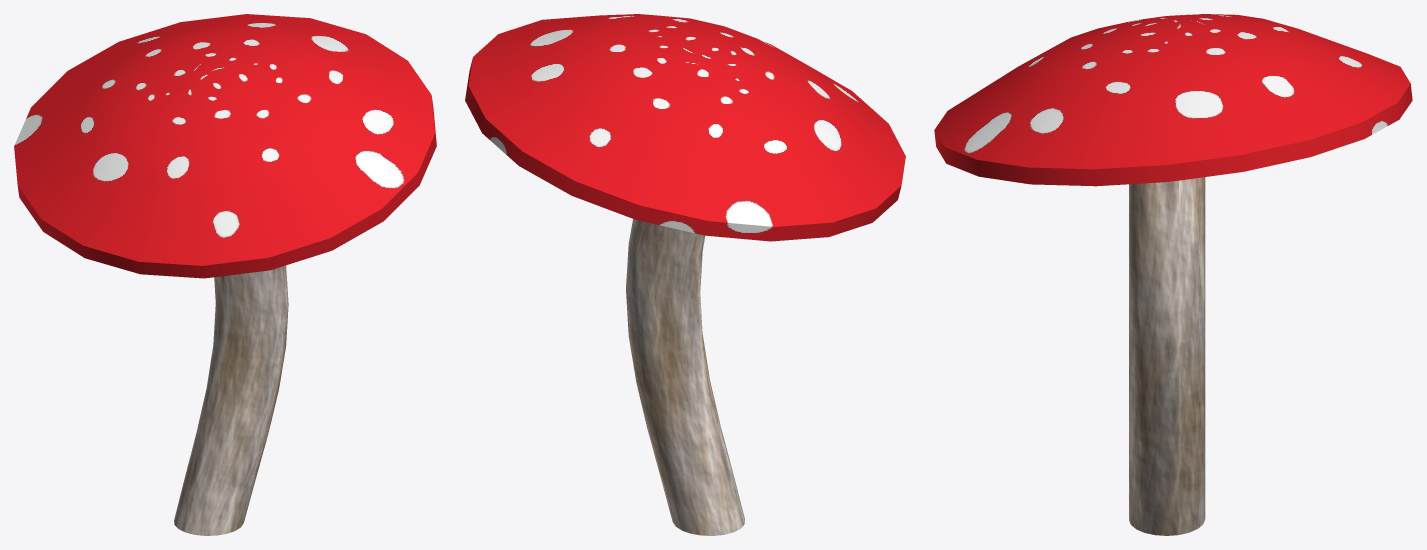
Rendered from mushroom.fbx.
3 views of the same model, side by side, from view 1: azimuth 30°, elevation 25°; view 2: azimuth 150°, elevation 25°; view 3: azimuth 270°, elevation 25° (orthographic). The views are drawn at different scales.
Parts seen in each view (by area): view 1: pCone1, pCylinder1; view 2: pCone1, pCylinder1; view 3: pCone1, pCylinder1.
Boxes of the visible parts, x1=… form: pCone1: x1=14, y1=14, x2=436, y2=278; pCylinder1: x1=174, y1=265, x2=288, y2=535; pCone1: x1=465, y1=14, x2=905, y2=241; pCylinder1: x1=626, y1=219, x2=744, y2=535; pCone1: x1=934, y1=14, x2=1412, y2=186; pCylinder1: x1=1129, y1=177, x2=1205, y2=535.
Bounding box in the file's own units: 7.01 × 8.22 × 7.08.
